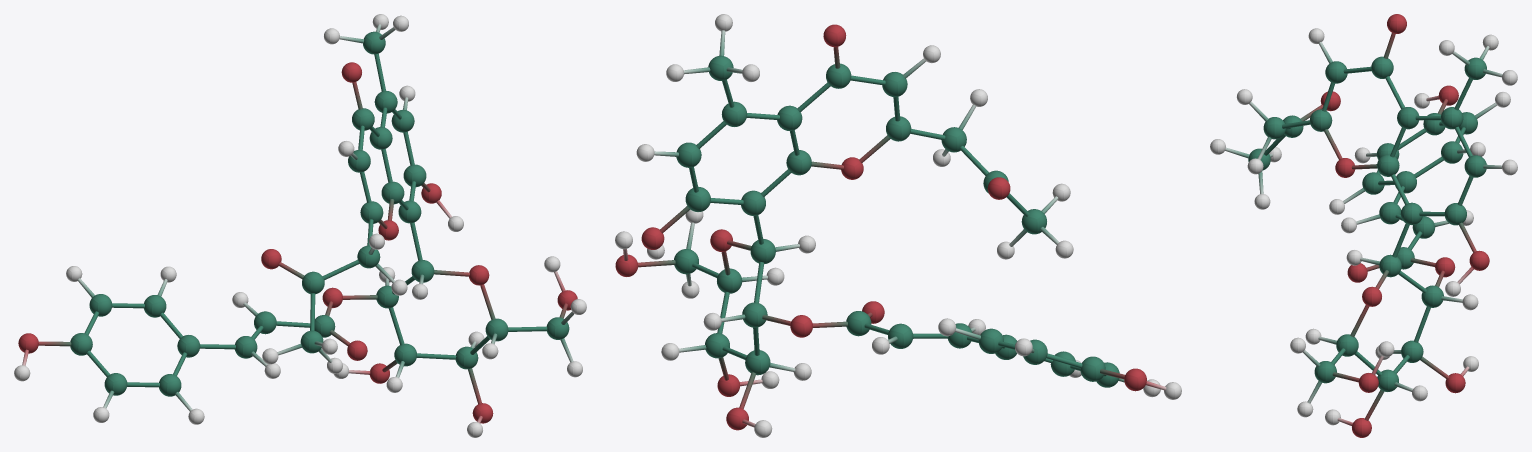
The model's file is Aloeresin.fbx.
3 views of the same model, side by side, from view 1: azimuth 30°, elevation 25°; view 2: azimuth 150°, elevation 25°; view 3: azimuth 270°, elevation 25° (orthographic). The views are drawn at different scales.
Parts seen in each view (by area): view 1: curMeshHyperballExportedMesh; view 2: curMeshHyperballExportedMesh; view 3: curMeshHyperballExportedMesh.
Boxes of the visible parts, x1=… form: curMeshHyperballExportedMesh: x1=14, y1=14, x2=586, y2=437; curMeshHyperballExportedMesh: x1=615, y1=14, x2=1181, y2=437; curMeshHyperballExportedMesh: x1=1210, y1=14, x2=1517, y2=437.
Size of the model in its own units: 15.25 by 10.48 by 7.74.
